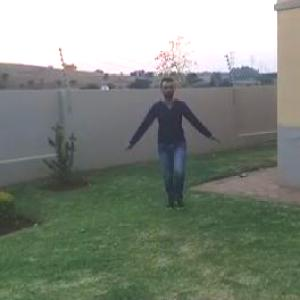land: (123, 75, 218, 210)
